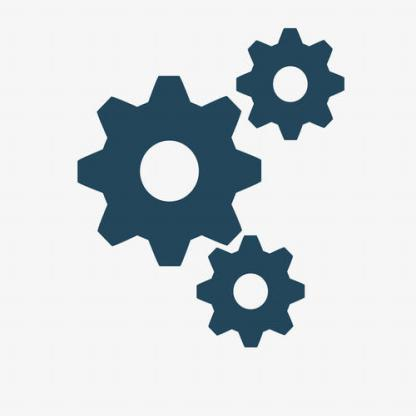FOD: (75, 73, 264, 275), (194, 233, 309, 350), (233, 25, 346, 144)
